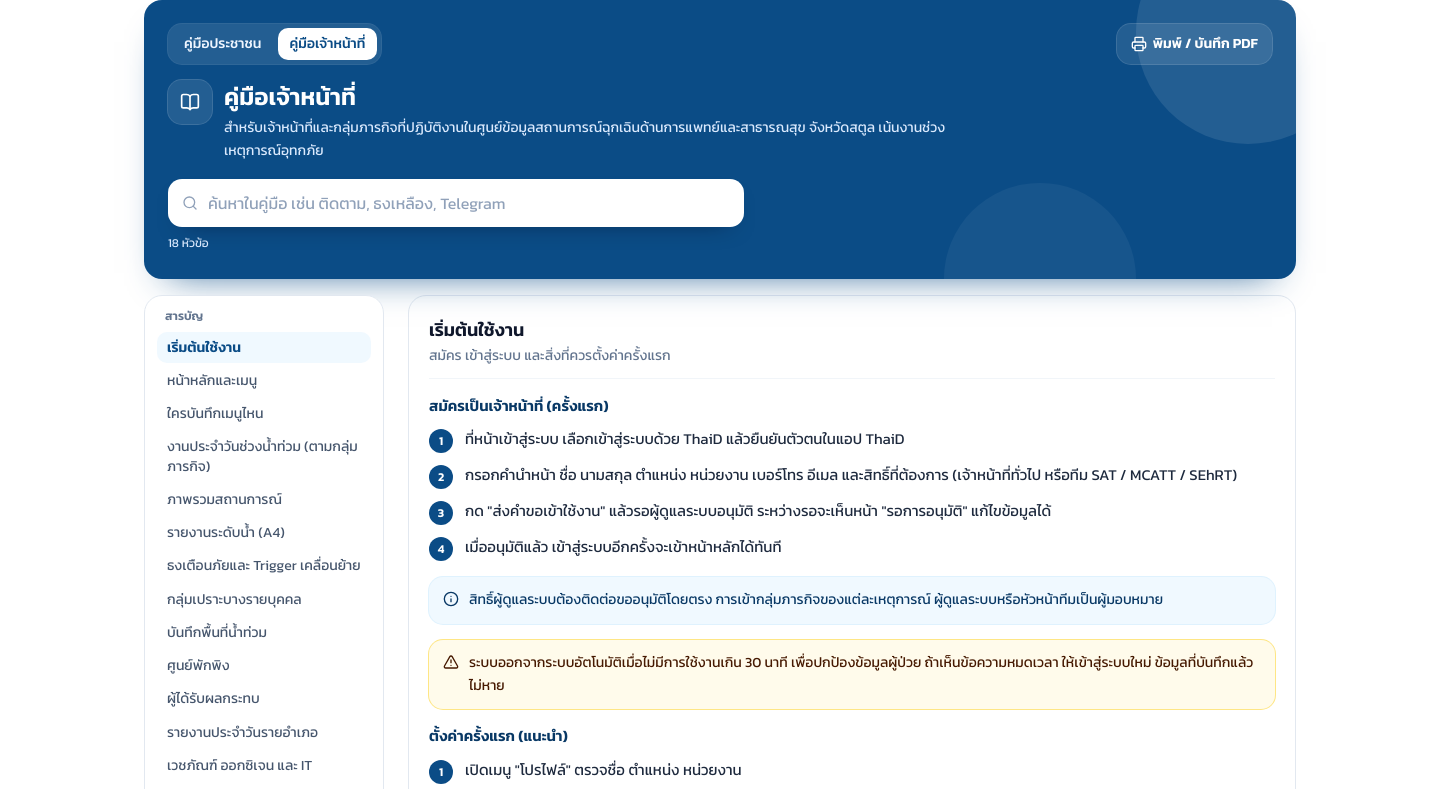
ไม่พบผลลัพธ์: บอกชัด และมีปุ่มล้างคำค้นหา
Type "คำที่ไม่มีอยู่จริงแน่นอน" into the field with placeholder "ค้นหาในคู่มือ เช่น ติดตาม, ธงเหลือง, Telegram" at [456, 202], box [168, 178, 744, 226]
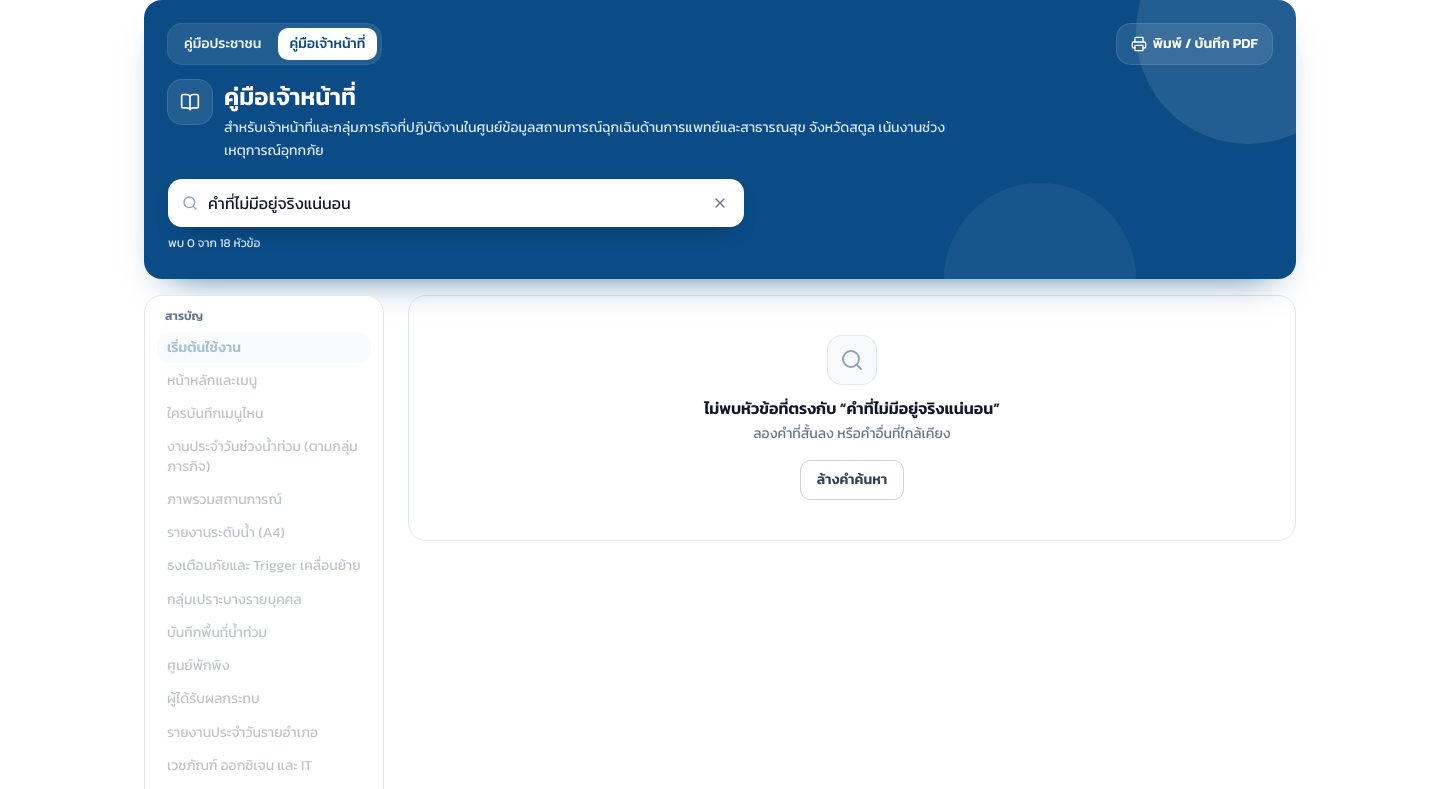
Expected: the text "ไม่พบหัวข้อที่ตรงกับ “คำที่ไม่มีอยู่จริงแน่นอน”" is shown, [704, 396, 1000, 420]
